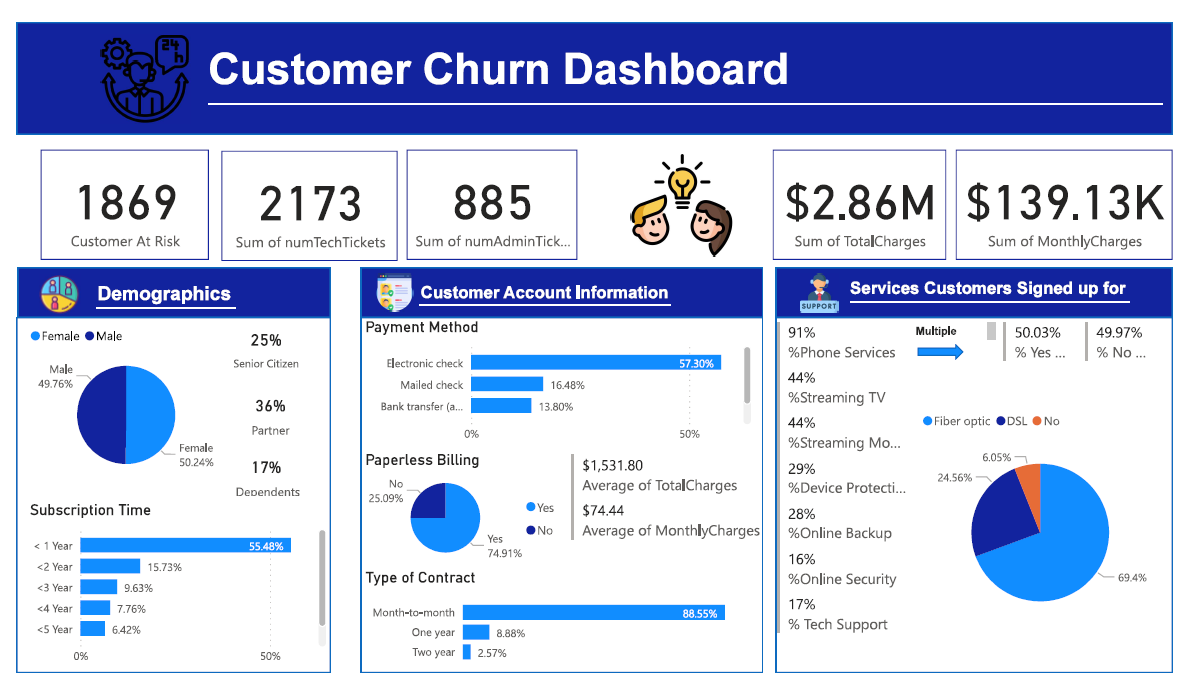

This screenshot's page, from the dashboard's own definition file:
{"tool":"powerbi","page":{"name":"Customer_Churn","canvas":[1280,720],"ordinal":0},"visuals":[{"type":"textbox","box":[9.6,97.7,1269.9,51.9],"z":0},{"type":"card","fields":{"Values":["Count(01 Churn-Dataset.customerID)"]},"box":[26.5,141.1,185.7,121.8],"z":1000},{"type":"card","fields":{"Values":["Sum(01 Churn-Dataset.numAdminTickets)"]},"box":[431.8,141.1,189.3,121.8],"z":2000},{"type":"card","fields":{"Values":["Sum(01 Churn-Dataset.numTechTickets)"]},"box":[226.7,142.3,195.4,121.8],"z":3000},{"type":"card","fields":{"Values":["Sum(01 Churn-Dataset.MonthlyCharges)"]},"box":[1039.6,141.1,240,121.8],"z":4000},{"type":"card","fields":{"Values":["Sum(01 Churn-Dataset.TotalCharges)"]},"box":[837,141.1,191.8,121.8],"z":5000},{"type":"pieChart","fields":{"Category":["01 Churn-Dataset.gender"],"Y":["CountNonNull(01 Churn-Dataset.gender)"]},"box":[9.6,326.8,223.1,186.9],"z":6000},{"type":"barChart","title":"Subscription Time ","fields":{"Category":["01 Churn-Dataset.Tenure In Years"],"Y":["CountNonNull(01 Churn-Dataset.Churn)"]},"box":[9.6,529.4,337.7,190.6],"z":7000},{"type":"card","fields":{"Values":["01 Churn-Dataset.%Senior Citizen"]},"box":[227.9,326.8,96.5,66.3],"z":8000},{"type":"card","fields":{"Values":["01 Churn-Dataset.% Partner"]},"box":[232.8,393.2,96.5,80.8],"z":9000},{"type":"card","fields":{"Values":["01 Churn-Dataset.% Dependents"]},"box":[227.9,474,96.5,55.5],"z":10000},{"type":"barChart","title":"Payment Method","fields":{"Category":["01 Churn-Dataset.PaymentMethod"],"Y":["CountNonNull(01 Churn-Dataset.Churn)"]},"box":[381.1,326.8,436.6,147.1],"z":11000},{"type":"pieChart","title":"Paperless Billing ","fields":{"Category":["01 Churn-Dataset.PaperlessBilling"],"Y":["CountNonNull(01 Churn-Dataset.PaperlessBilling)"]},"box":[381.1,474,227.9,130.3],"z":12000},{"type":"shape","box":[0,0,1279.6,124.2],"z":13000},{"type":"textbox","box":[119.4,19.3,828.5,71.2],"z":14000},{"type":"textbox","box":[76,273.8,271.4,53.1],"z":15000},{"type":"shape","box":[1.2,271.4,346.1,55.5],"z":16000},{"type":"shape","box":[381.1,271.4,445,55.5],"z":17000},{"type":"textbox","box":[50.7,283.4,225.5,53.1],"z":18000},{"type":"multiRowCard","fields":{"Values":["Avg(01 Churn-Dataset.TotalCharges)","Avg(01 Churn-Dataset.MonthlyCharges)"]},"box":[609,474,227.9,130.3],"z":19000},{"type":"shape","box":[840.6,271.4,439,55.5],"z":20000},{"type":"textbox","box":[418.5,283.4,331.7,53.1],"z":21000},{"type":"barChart","title":"Type of Contract","fields":{"Category":["01 Churn-Dataset.Contract"],"Y":["CountNonNull(01 Churn-Dataset.Churn)"]},"box":[381.1,604.2,445,115.8],"z":22000},{"type":"shape","box":[212.3,83.2,1056.5,14.5],"z":23000},{"type":"multiRowCard","fields":{"Values":["01 Churn-Dataset.%Phone Services","01 Churn-Dataset.%Streaming TV","01 Churn-Dataset.%Streaming Movies","01 Churn-Dataset.%Device Protection","01 Churn-Dataset.%Online Backup","01 Churn-Dataset.%Online Security","01 Churn-Dataset.% Tech Support"]},"box":[837,326.8,153.2,393.2],"z":24000},{"type":"multiRowCard","fields":{"Values":["01 Churn-Dataset.% Yes Multiple Lines"]},"box":[1087.8,326.8,90.5,56.7],"z":25000},{"type":"multiRowCard","fields":{"Values":["01 Churn-Dataset.% No Multiple Lines"]},"box":[1178.3,326.8,90.5,56.7],"z":26000},{"type":"shape","box":[997.4,355.8,50.7,18.1],"z":27000},{"type":"textbox","box":[990.2,326.8,97.7,28.9],"z":28000},{"type":"pieChart","fields":{"Y":["CountNonNull(01 Churn-Dataset.Churn)"],"Category":["01 Churn-Dataset.InternetService"]},"box":[997.4,420.9,271.4,259.3],"z":29000},{"type":"textbox","box":[908.1,278.6,338.9,41],"z":30000},{"type":"shape","box":[88,299.1,154.4,35],"z":31000},{"type":"shape","box":[922.6,296.7,308.7,25.3],"z":32000},{"type":"shape","box":[446.2,299.1,277.4,27.7],"z":33000},{"type":"shape","box":[0,326.8,347.3,393.2],"z":34000},{"type":"shape","box":[381.1,326.8,445,393.2],"z":35000},{"type":"shape","box":[840.6,326.8,439,393.2],"z":36000},{"type":"image","box":[88,8.4,108.5,108.5],"z":37000},{"type":"image","box":[654.9,141.1,162.8,123],"z":38000},{"type":"image","box":[19.3,273.8,56.7,55.5],"z":38001},{"type":"image","box":[393.2,272.6,50.7,53.1],"z":38002},{"type":"image","box":[862.3,272.6,51.9,53.1],"z":38003}]}

Visuals, with their boxes in screenshot pixels (x1, y1, x2, y2):
textbox: l=15, t=102, r=1181, b=150
card - Count(01 Churn-Dataset.customerID): l=31, t=142, r=201, b=254
card - Sum(01 Churn-Dataset.numAdminTickets): l=403, t=142, r=577, b=254
card - Sum(01 Churn-Dataset.numTechTickets): l=214, t=143, r=394, b=255
card - Sum(01 Churn-Dataset.MonthlyCharges): l=961, t=142, r=1181, b=254
card - Sum(01 Churn-Dataset.TotalCharges): l=775, t=142, r=951, b=254
pieChart - 01 Churn-Dataset.gender x CountNonNull(01 Churn-Dataset.gender): l=15, t=313, r=220, b=484
"Subscription Time " barChart: l=15, t=499, r=325, b=674
card - 01 Churn-Dataset.%Senior Citizen: l=216, t=313, r=304, b=373
card - 01 Churn-Dataset.% Partner: l=220, t=374, r=309, b=448
card - 01 Churn-Dataset.% Dependents: l=216, t=448, r=304, b=499
"Payment Method" barChart: l=356, t=313, r=757, b=448
"Paperless Billing " pieChart: l=356, t=448, r=566, b=567
shape: l=6, t=12, r=1181, b=126
textbox: l=116, t=30, r=877, b=96
textbox: l=76, t=264, r=325, b=313
shape: l=7, t=262, r=325, b=313
shape: l=356, t=262, r=765, b=313
textbox: l=53, t=273, r=260, b=321
multiRowCard - Avg(01 Churn-Dataset.TotalCharges) x Avg(01 Churn-Dataset.MonthlyCharges): l=566, t=448, r=775, b=567
shape: l=778, t=262, r=1181, b=313
textbox: l=391, t=273, r=695, b=321
"Type of Contract" barChart: l=356, t=567, r=765, b=674
shape: l=201, t=89, r=1171, b=102
multiRowCard - 01 Churn-Dataset.%Phone Services x 01 Churn-Dataset.%Streaming TV: l=775, t=313, r=916, b=674
multiRowCard - 01 Churn-Dataset.% Yes Multiple Lines: l=1005, t=313, r=1088, b=365
multiRowCard - 01 Churn-Dataset.% No Multiple Lines: l=1088, t=313, r=1171, b=365
shape: l=922, t=339, r=969, b=356
textbox: l=916, t=313, r=1005, b=339
pieChart - CountNonNull(01 Churn-Dataset.Churn) x 01 Churn-Dataset.InternetService: l=922, t=399, r=1171, b=637
textbox: l=840, t=268, r=1151, b=306
shape: l=87, t=287, r=229, b=319
shape: l=854, t=285, r=1137, b=308
shape: l=416, t=287, r=671, b=313
shape: l=6, t=313, r=325, b=674
shape: l=356, t=313, r=765, b=674
shape: l=778, t=313, r=1181, b=674
image: l=87, t=20, r=187, b=120
image: l=608, t=142, r=757, b=255
image: l=24, t=264, r=76, b=315
image: l=367, t=263, r=414, b=312
image: l=798, t=263, r=846, b=312
